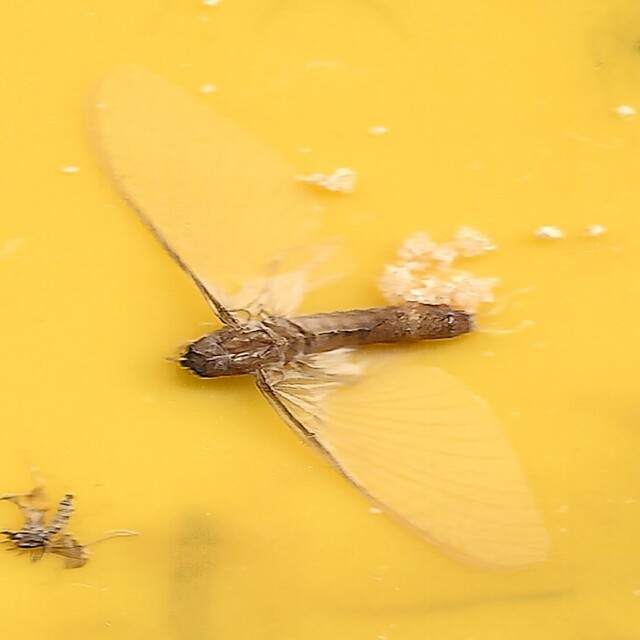Ephemeroptera: (94, 66, 546, 574)
